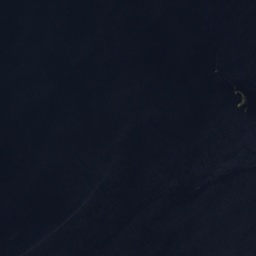Marine Debris: (215, 70, 218, 73)
